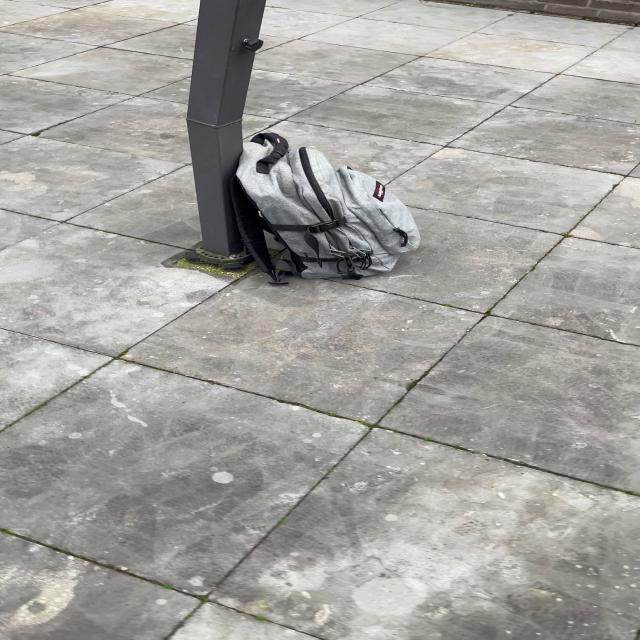backpack: (222, 133, 430, 289)
